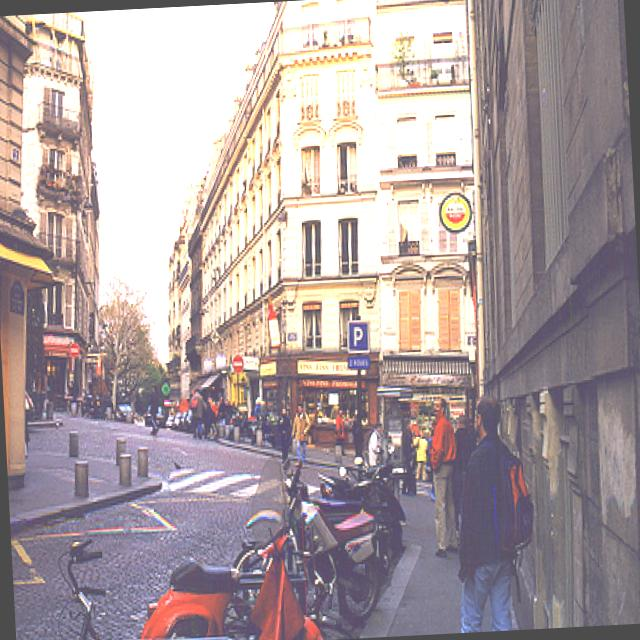Vehicle: (240, 432, 388, 630), (132, 531, 323, 640), (317, 456, 411, 564), (202, 404, 219, 441)
